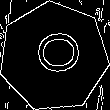O_W: (27, 33, 81, 81)
